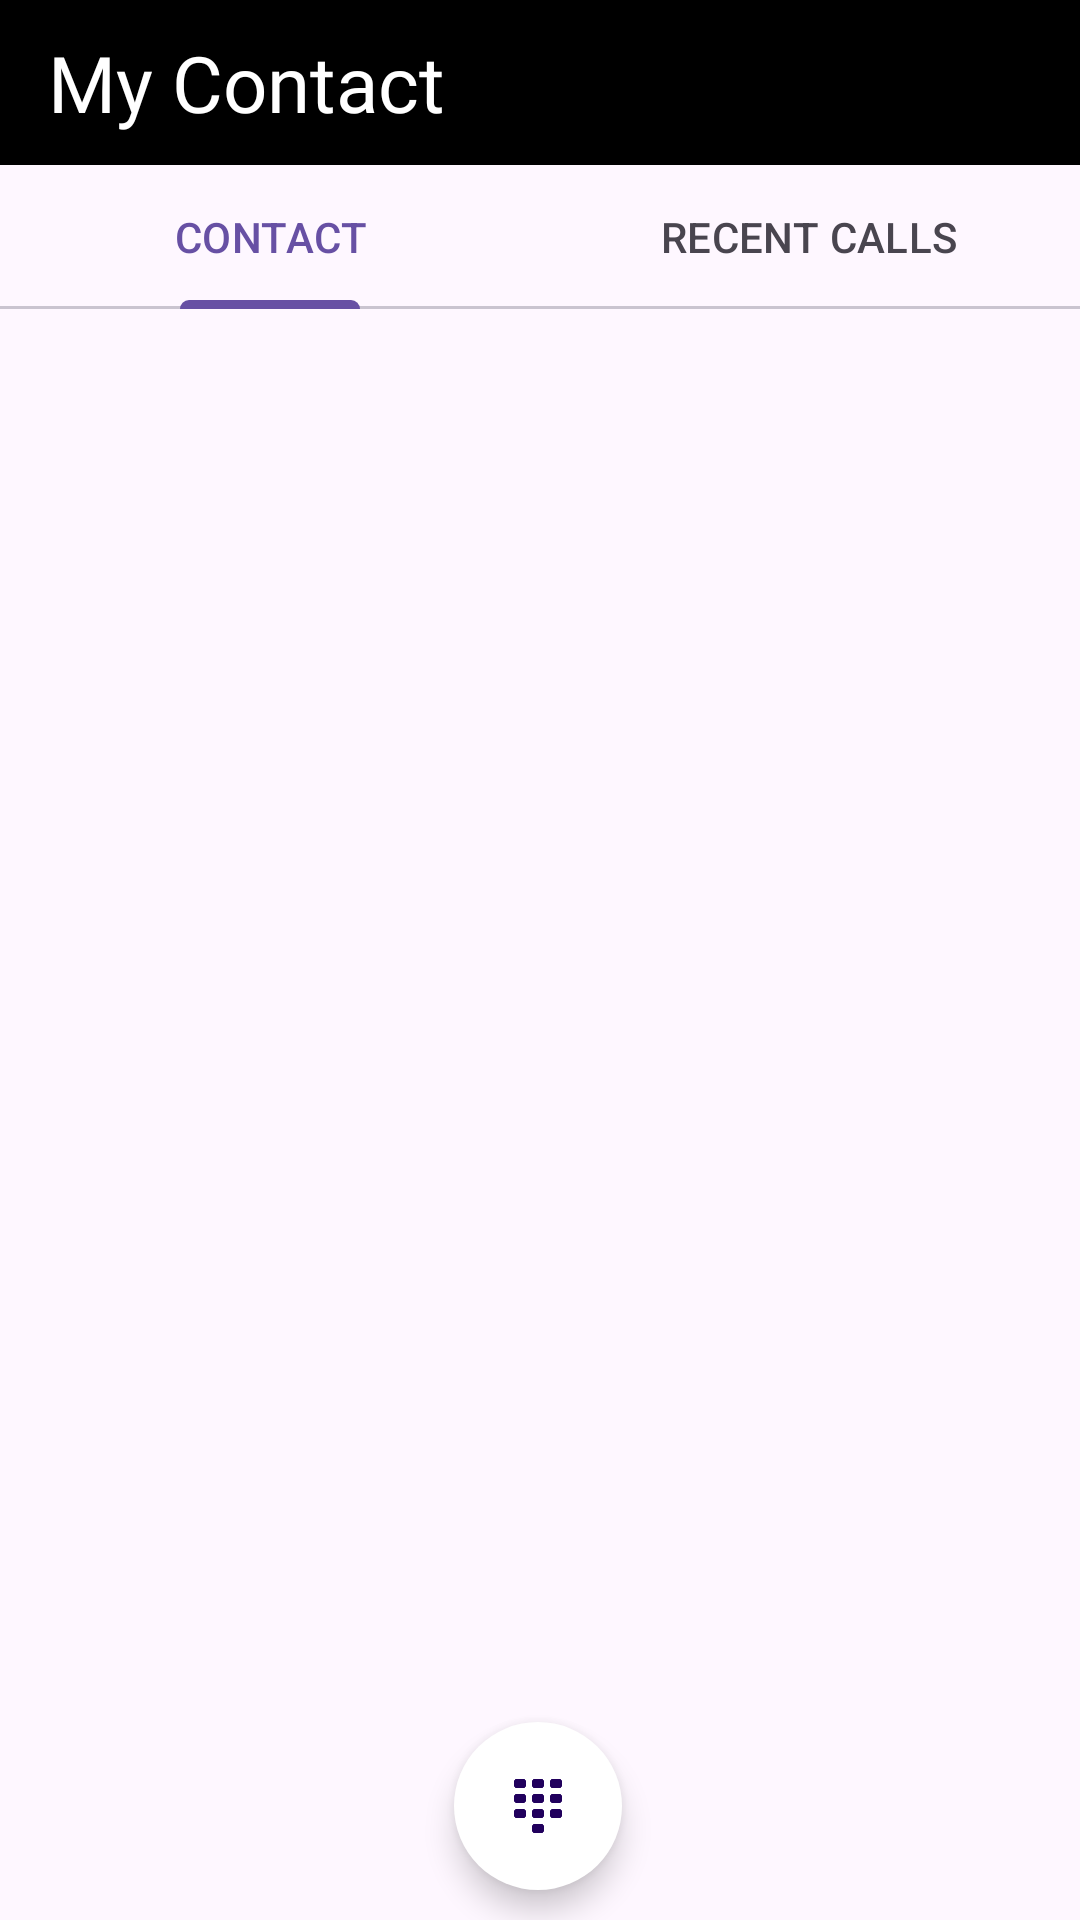

Screen size 1080px×1920px. Icon name, then its box in pixels as (x1, y1, x2, y2):
keypad: (454, 1722, 622, 1890)
